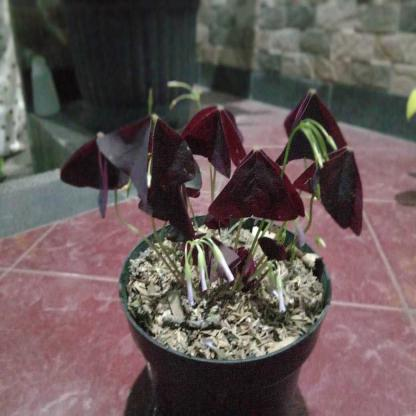Kupu-Kupu: (212, 138, 306, 252), (62, 110, 129, 209), (140, 102, 193, 224), (313, 143, 380, 232), (181, 94, 262, 160), (291, 77, 345, 152)
